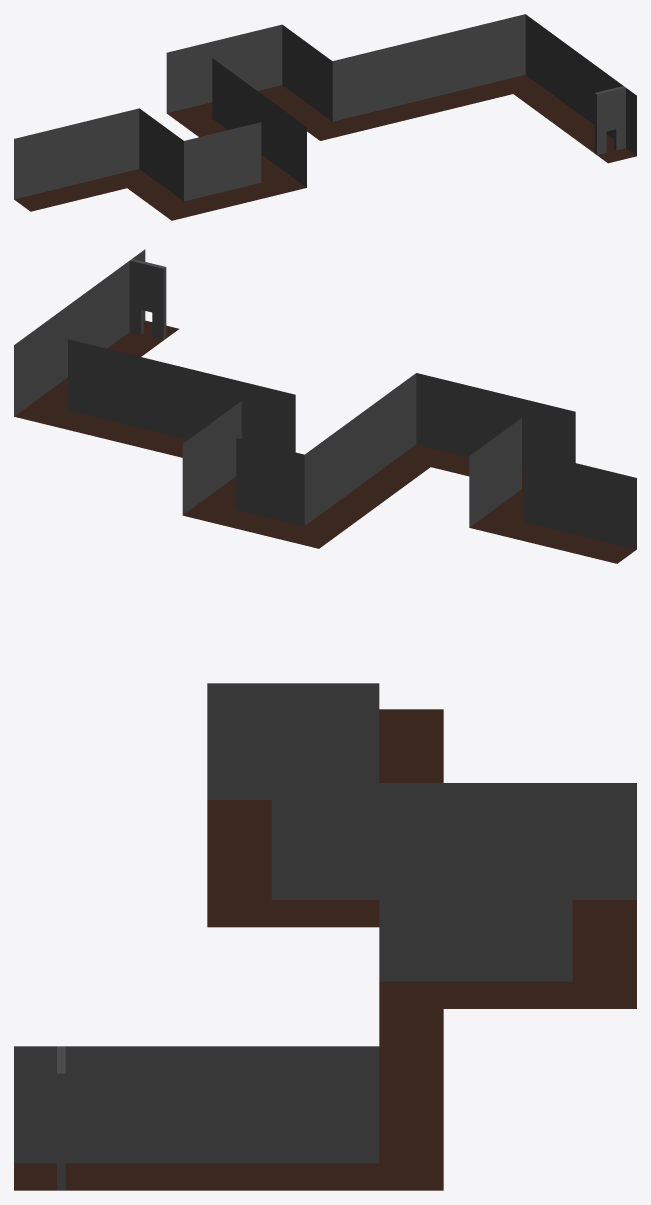
File: hallway.glb
The picture shows the model from 3 angles, top to bottom: view 1: azimuth 30°, elevation 25°; view 2: azimuth 150°, elevation 25°; view 3: azimuth 270°, elevation 25°; orthographic projection. The views are drawn at different scales.
Visible parts, largest first — view 1: Mesh_8.004, Mesh_8.003, Mesh_8.001, TallDoorFrame; view 2: Mesh_8.001, Mesh_8.003, Mesh_8.004, TallDoorFrame; view 3: Mesh_8.001, Mesh_8.003, Mesh_8.004, TallDoorFrame.
Part boxes in pixels (x1=…): Mesh_8.004: x1=14, y1=14, x2=636, y2=201; Mesh_8.003: x1=14, y1=74, x2=636, y2=220; Mesh_8.001: x1=212, y1=58, x2=306, y2=187; TallDoorFrame: x1=594, y1=86, x2=625, y2=154; Mesh_8.001: x1=68, y1=339, x2=636, y2=549; Mesh_8.003: x1=14, y1=320, x2=636, y2=563; Mesh_8.004: x1=14, y1=249, x2=521, y2=527; TallDoorFrame: x1=129, y1=258, x2=166, y2=340; Mesh_8.001: x1=14, y1=683, x2=572, y2=1163; Mesh_8.003: x1=14, y1=709, x2=636, y2=1190; Mesh_8.004: x1=271, y1=783, x2=636, y2=899; TallDoorFrame: x1=57, y1=1046, x2=65, y2=1190.
Bounding box in the file's own units: 53 × 6 × 29.
